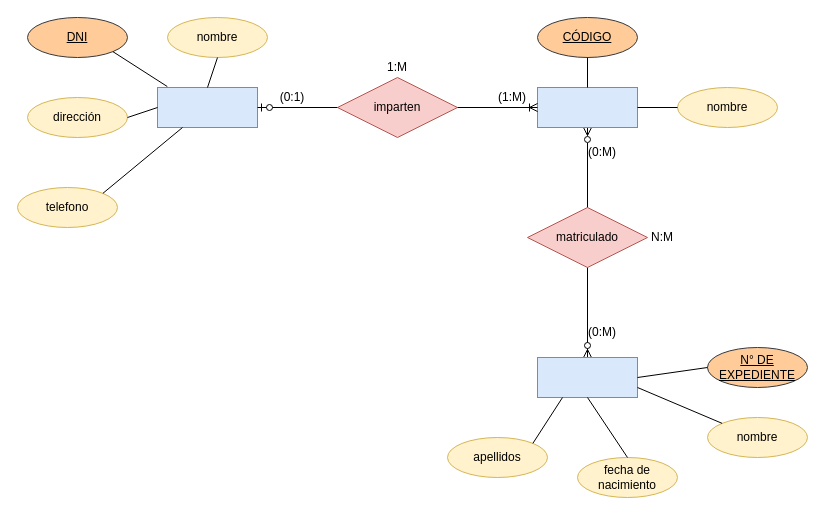
This 825x515 diagram has some shape labels left out. The box of each missing label's shape, as (x1, y1, x2, y2) in pixels:
ALUMNO: (536, 356, 638, 398)
MODULO: (536, 86, 638, 128)
PROFESOR: (156, 86, 258, 128)
